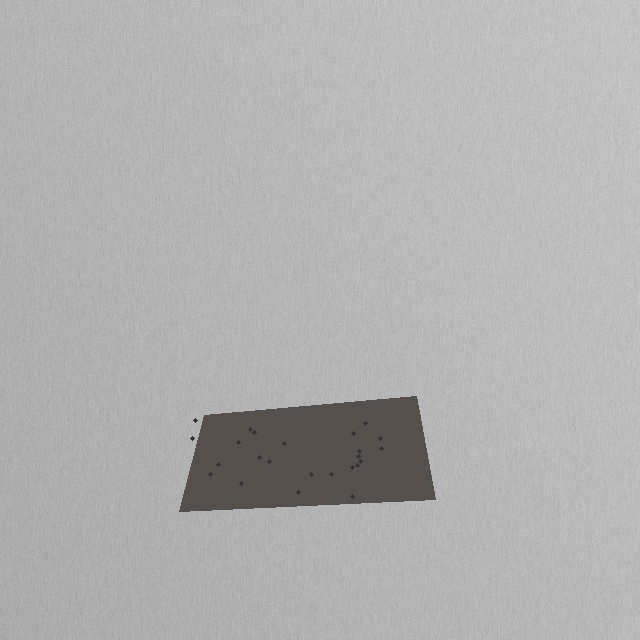rolled-in_scale: (100, 140, 530, 520)
